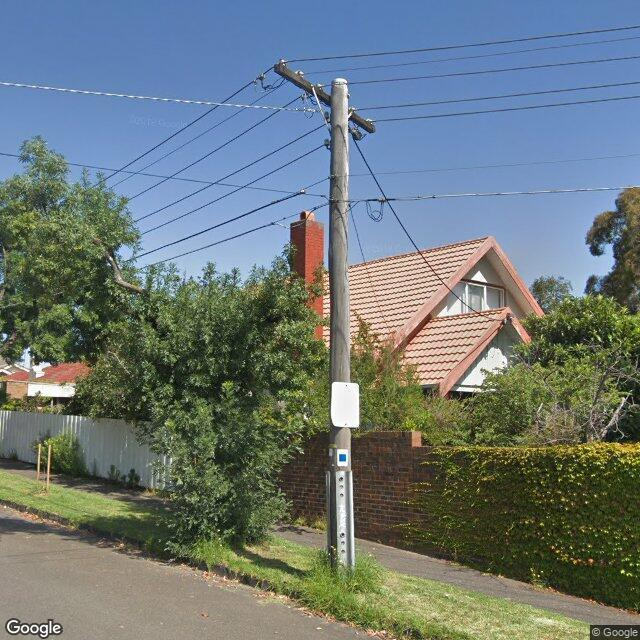crossarm: (251, 59, 377, 140)
timber-pole: (328, 78, 355, 578)
